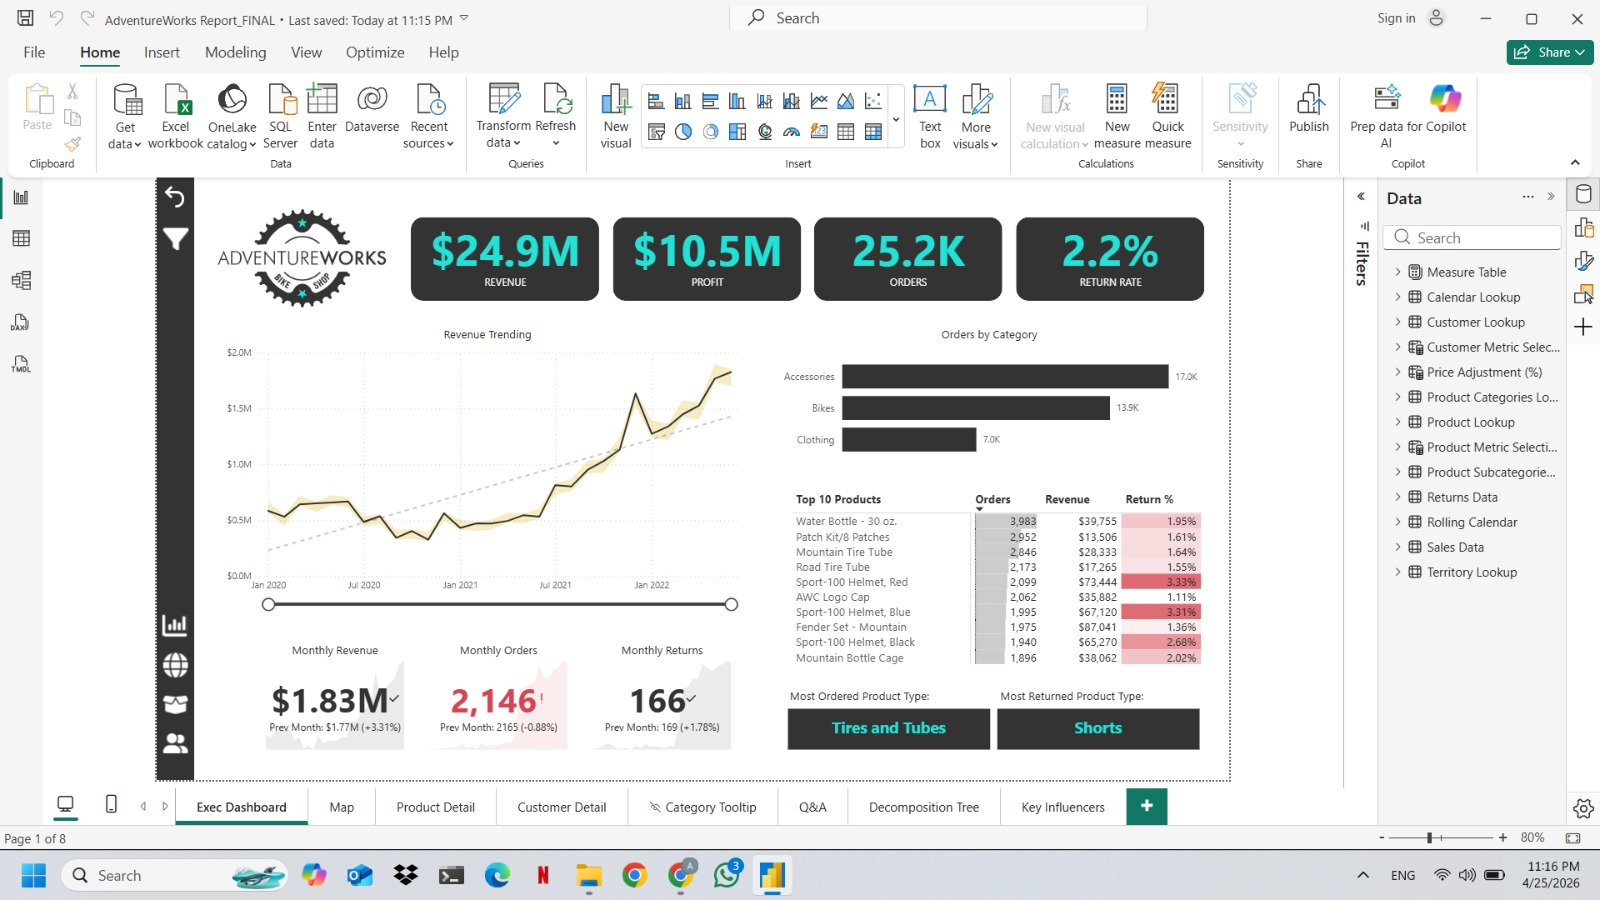

What the dashboard file says about the page in this screenshot:
{"tool":"powerbi","page":{"name":"Exec Dashboard","canvas":[1280,720],"ordinal":0},"visuals":[{"type":"card","fields":{"Values":["Measure Table.Total Revenue"]},"box":[288.1,17.8,256.2,150],"z":0,"group":"g2"},{"type":"image","title":"AW Logo","box":[45.6,26.6,256.2,141.2],"z":0},{"type":"shape","box":[303.1,47.8,225,100],"z":0,"group":"g1"},{"type":"actionButton","box":[2.5,516.7,45.6,37.8],"z":0,"group":"g3"},{"type":"card","fields":{"Values":["Measure Table.Total Profit"]},"box":[528.9,17.8,256.2,150],"z":1000,"group":"g2"},{"type":"shape","box":[543.9,47.8,225,100],"z":1000,"group":"g1"},{"type":"actionButton","box":[3.3,563.4,45.6,37.8],"z":1000,"group":"g3"},{"type":"card","fields":{"Values":["Measure Table.Total Orders"]},"box":[769.8,17.8,256.2,150],"z":2000,"group":"g2"},{"type":"group","id":"g1","title":"KPI Backgrounds","box":[303.1,47.8,947.5,100],"z":2000},{"type":"shape","box":[784.8,47.8,225,100],"z":2000,"group":"g1"},{"type":"actionButton","box":[3.3,611.1,45.6,37.8],"z":2000,"group":"g3"},{"type":"shape","title":"Left Nav Background","box":[0,0,45,720],"z":3000},{"type":"card","fields":{"Values":["Measure Table.Return Rate"]},"box":[1010.6,17.8,256.2,150],"z":3000,"group":"g2"},{"type":"shape","box":[1025.6,47.8,225,100],"z":3000,"group":"g1"},{"type":"actionButton","box":[3.3,657.8,45.6,37.8],"z":3000,"group":"g3"},{"type":"group","id":"g2","title":"KPI Values","box":[288.1,17.8,978.8,150],"z":4000},{"type":"lineChart","title":"Revenue Trending","fields":{"Y":["Measure Table.Total Revenue"],"Category":["Calendar Lookup.Start of Month"]},"box":[78.9,177.7,633.8,342.5],"z":5000},{"type":"kpi","title":"Monthly Revenue","fields":{"Indicator":["Measure Table.Total Revenue"],"TrendLine":["Calendar Lookup.Start of Month"],"Goal":["Measure Table.Previous Month Revenue"]},"box":[126.2,555,175,133.8],"z":6000},{"type":"kpi","title":"Monthly Orders","fields":{"TrendLine":["Calendar Lookup.Start of Month"],"Indicator":["Measure Table.Total Orders"],"Goal":["Measure Table.Previous Month Orders"]},"box":[321.2,555,175,133.8],"z":7000},{"type":"kpi","title":"Monthly Returns","fields":{"TrendLine":["Calendar Lookup.Start of Month"],"Indicator":["Measure Table.Total Returns"],"Goal":["Measure Table.Previous Month Returns"]},"box":[516.2,555,175,133.8],"z":8000},{"type":"clusteredBarChart","title":"Orders by Category","fields":{"Category":["Product Categories Lookup.CategoryName"],"Y":["Measure Table.Total Orders"]},"box":[738.9,177.7,511.2,171.2],"z":9000},{"type":"pivotTable","fields":{"Rows":["Product Lookup.ProductName"],"Values":["Measure Table.Total Orders","Measure Table.Total Revenue","Measure Table.Return Rate"]},"box":[753.7,369.2,511.1,228.4],"z":10000},{"type":"card","fields":{"Values":["Min(Product Subcategories Lookup.SubcategoryName)"]},"box":[753.7,634.2,241.4,48.5],"z":11000},{"type":"textbox","box":[751.3,604.6,198.8,35.5],"z":12000},{"type":"card","fields":{"Values":["Min(Product Subcategories Lookup.SubcategoryName)"]},"box":[1004.1,634.2,241.4,48.5],"z":13000},{"type":"textbox","box":[1002.2,605.2,198.8,35.5],"z":14000},{"type":"actionButton","box":[3.3,5.6,35.6,35.6],"z":15000},{"type":"group","id":"g3","title":"Navigation Buttons","box":[2.5,516.7,46.4,178.9],"z":16000},{"type":"actionButton","box":[3.4,53.1,38.4,39.6],"z":17000}]}

Visuals, with their boxes on the page's 1280x720 design canvas (x1, y1, x2, y2). These are canvas units, not pixel positions in the 1600x900 screenshot, which may show the page scaled, cropped or inside an application window:
card - Measure Table.Total Revenue: {"left": 288, "top": 18, "right": 544, "bottom": 168}
"AW Logo" image: {"left": 46, "top": 27, "right": 302, "bottom": 168}
shape: {"left": 303, "top": 48, "right": 528, "bottom": 148}
actionButton: {"left": 2, "top": 517, "right": 48, "bottom": 554}
card - Measure Table.Total Profit: {"left": 529, "top": 18, "right": 785, "bottom": 168}
shape: {"left": 544, "top": 48, "right": 769, "bottom": 148}
actionButton: {"left": 3, "top": 563, "right": 49, "bottom": 601}
card - Measure Table.Total Orders: {"left": 770, "top": 18, "right": 1026, "bottom": 168}
"KPI Backgrounds" group: {"left": 303, "top": 48, "right": 1251, "bottom": 148}
shape: {"left": 785, "top": 48, "right": 1010, "bottom": 148}
actionButton: {"left": 3, "top": 611, "right": 49, "bottom": 649}
"Left Nav Background" shape: {"left": 0, "top": 0, "right": 45, "bottom": 720}
card - Measure Table.Return Rate: {"left": 1011, "top": 18, "right": 1267, "bottom": 168}
shape: {"left": 1026, "top": 48, "right": 1251, "bottom": 148}
actionButton: {"left": 3, "top": 658, "right": 49, "bottom": 696}
"KPI Values" group: {"left": 288, "top": 18, "right": 1267, "bottom": 168}
"Revenue Trending" lineChart: {"left": 79, "top": 178, "right": 713, "bottom": 520}
"Monthly Revenue" kpi: {"left": 126, "top": 555, "right": 301, "bottom": 689}
"Monthly Orders" kpi: {"left": 321, "top": 555, "right": 496, "bottom": 689}
"Monthly Returns" kpi: {"left": 516, "top": 555, "right": 691, "bottom": 689}
"Orders by Category" clusteredBarChart: {"left": 739, "top": 178, "right": 1250, "bottom": 349}
pivotTable - Product Lookup.ProductName x Measure Table.Total Orders: {"left": 754, "top": 369, "right": 1265, "bottom": 598}
card - Min(Product Subcategories Lookup.SubcategoryName): {"left": 754, "top": 634, "right": 995, "bottom": 683}
textbox: {"left": 751, "top": 605, "right": 950, "bottom": 640}
card - Min(Product Subcategories Lookup.SubcategoryName): {"left": 1004, "top": 634, "right": 1246, "bottom": 683}
textbox: {"left": 1002, "top": 605, "right": 1201, "bottom": 641}
actionButton: {"left": 3, "top": 6, "right": 39, "bottom": 41}
"Navigation Buttons" group: {"left": 2, "top": 517, "right": 49, "bottom": 696}
actionButton: {"left": 3, "top": 53, "right": 42, "bottom": 93}
